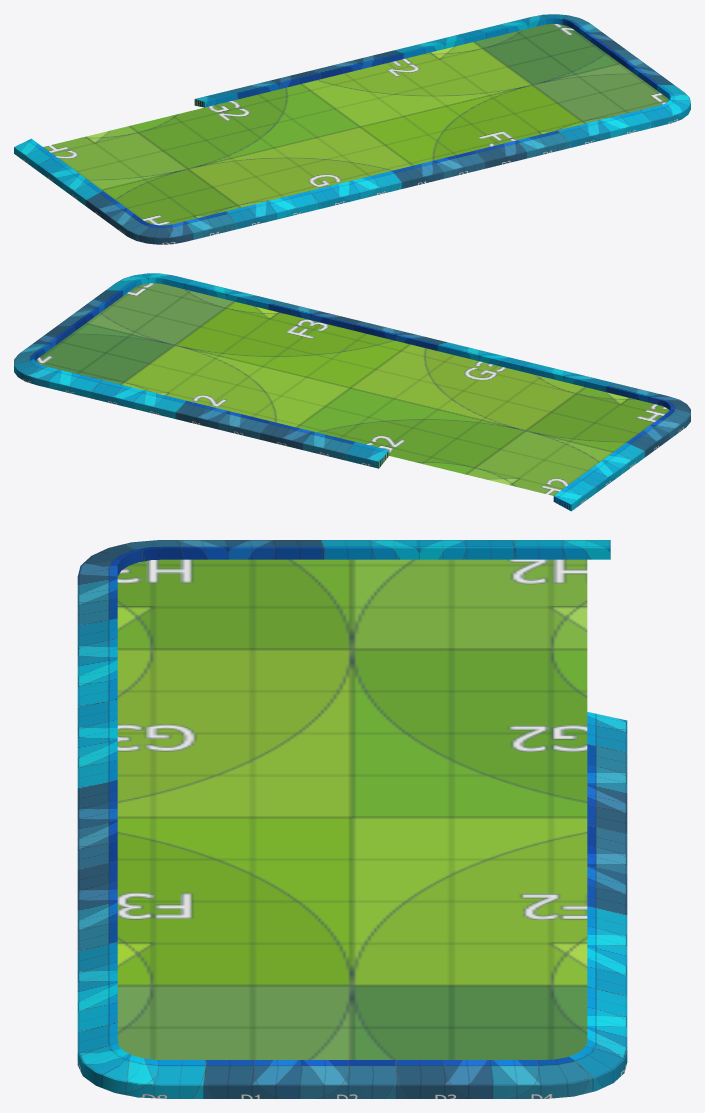
Rendered from GrassBorder2.fbx.
The picture shows the model from 3 angles, top to bottom: view 1: azimuth 30°, elevation 25°; view 2: azimuth 150°, elevation 25°; view 3: azimuth 270°, elevation 25°; orthographic projection. The views are drawn at different scales.
Visible parts, largest first — view 1: GrassBorder2; view 2: GrassBorder2; view 3: GrassBorder2.
Part boxes in pixels (box(x1,y1,x2,y2)): GrassBorder2: box(14, 14, 690, 244); GrassBorder2: box(14, 273, 690, 511); GrassBorder2: box(77, 540, 627, 1098).
Size of the model in its own units: 20.33 by 0.3789 by 8.66.
Materials: 1 (1 with a texture image).
